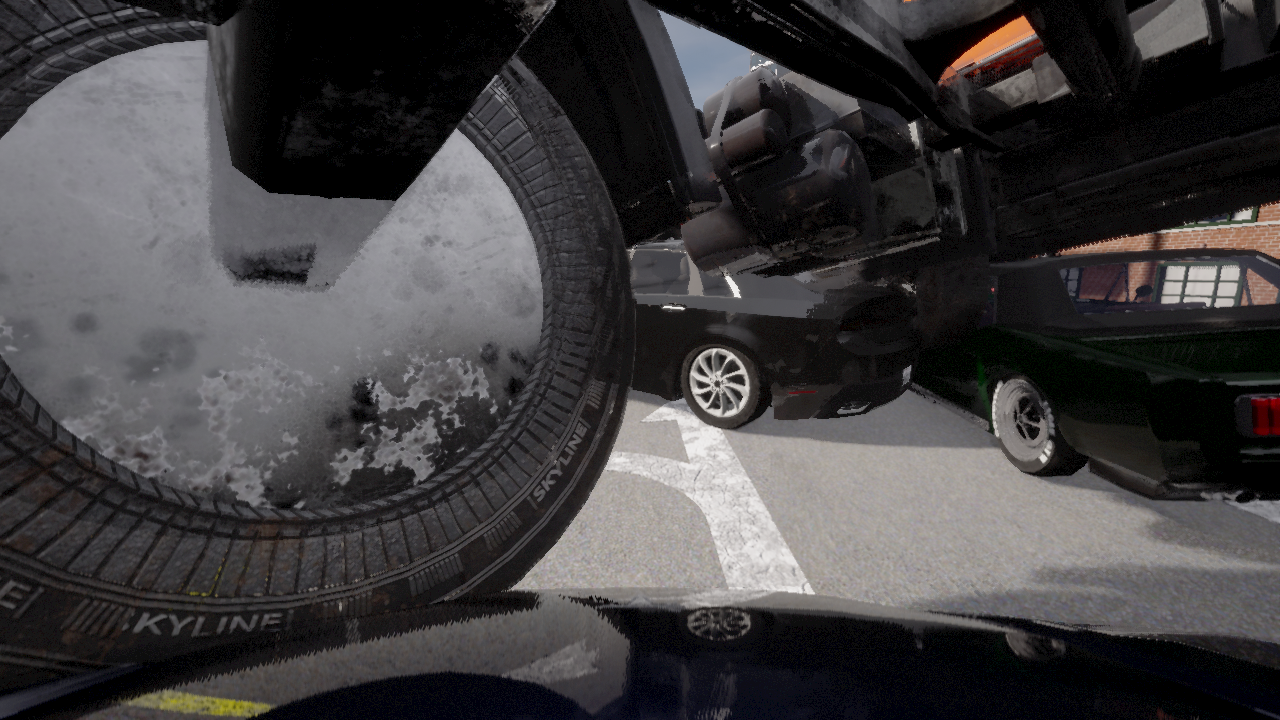cyclist: (0, 588, 1279, 719), (908, 249, 1279, 502), (627, 239, 918, 429), (645, 226, 680, 241)
